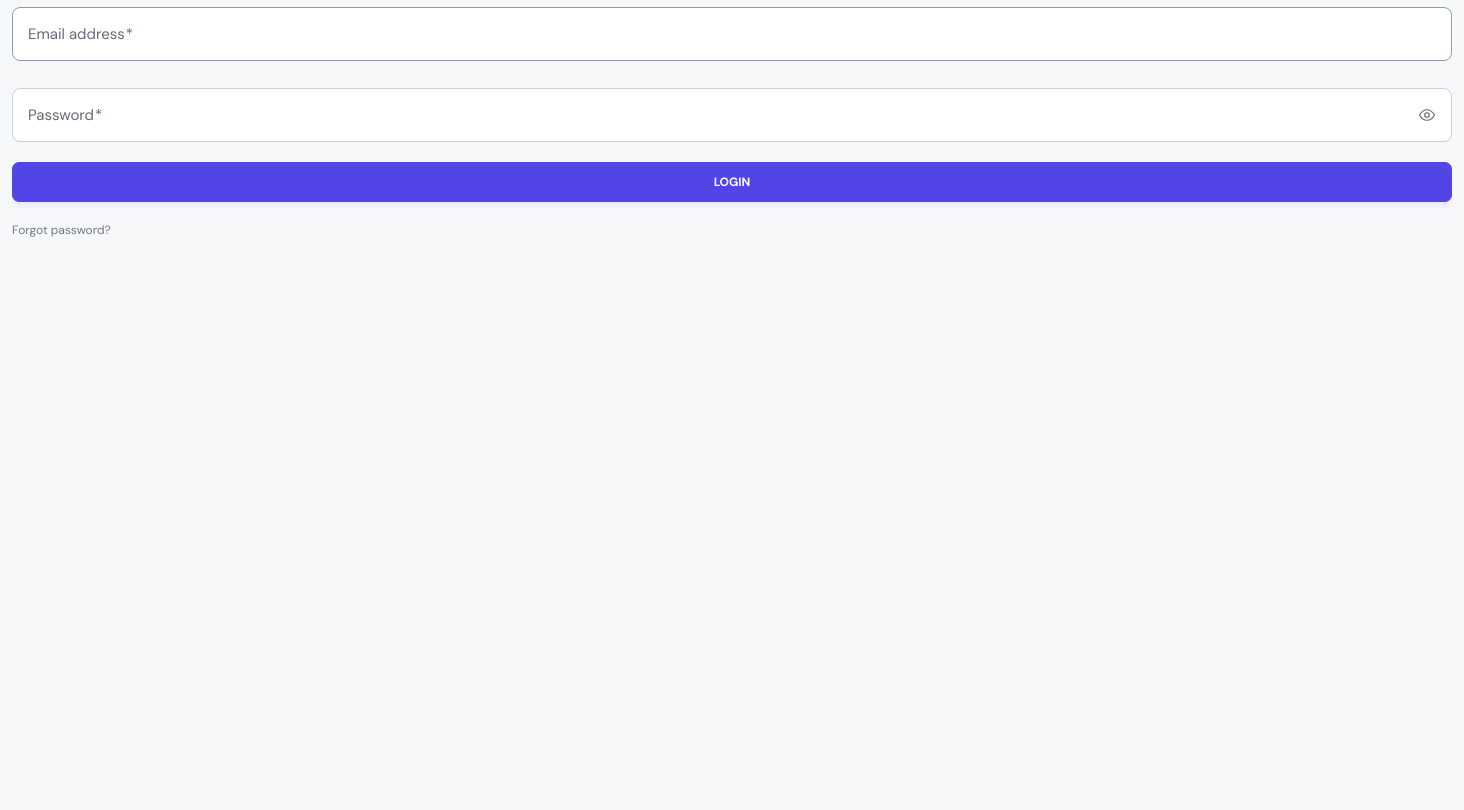
Test: authentication forms block invalid requests › keeps values and maps server field errors without navigation
This screenshot has width=1464, height=810.
Type "alex@example.test" into the field labelled "Email address". click: (732, 34)
box: [12,7,1452,61]
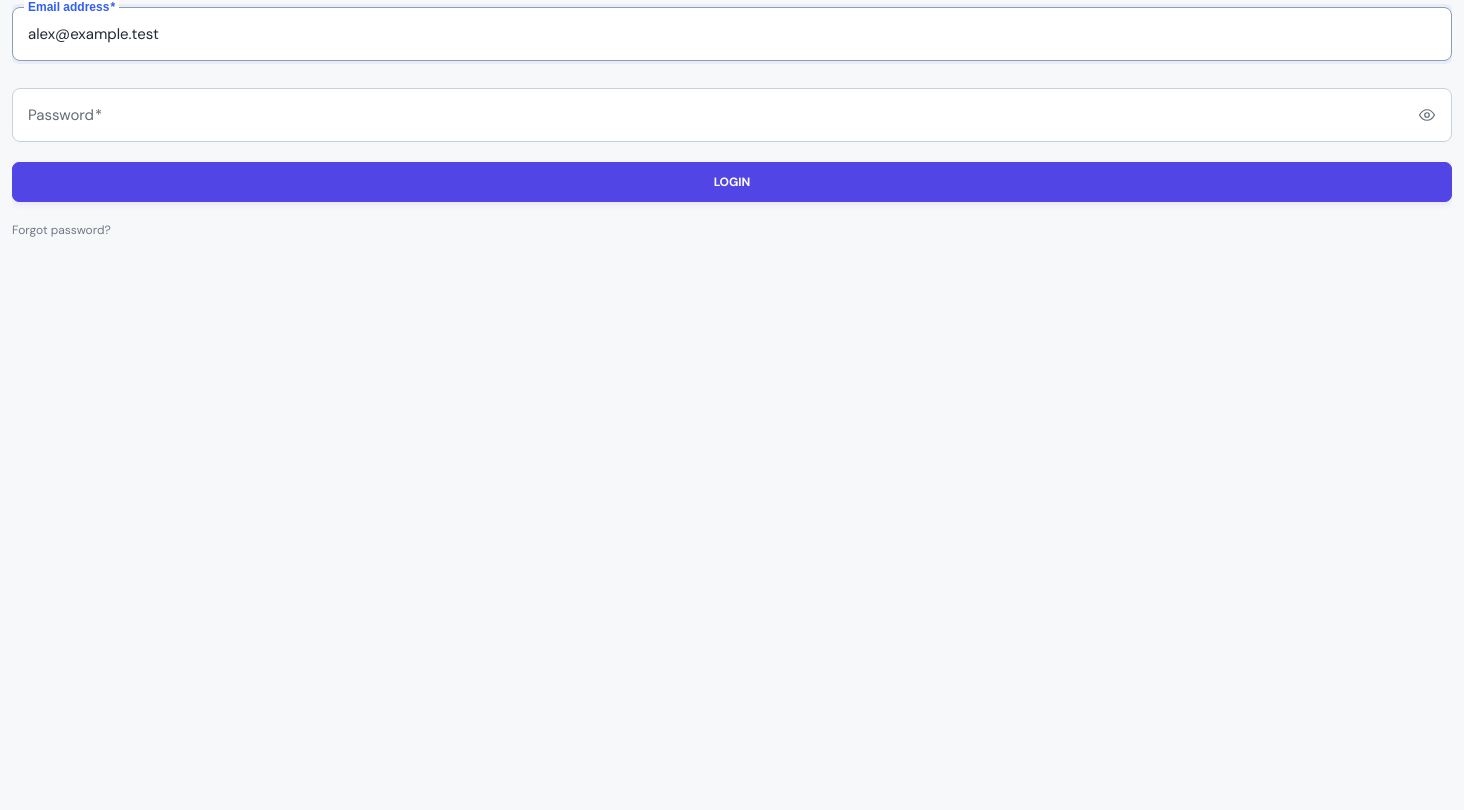
Type "password" into the password field labelled "Password*". click: (732, 115)
box: [12,88,1452,142]
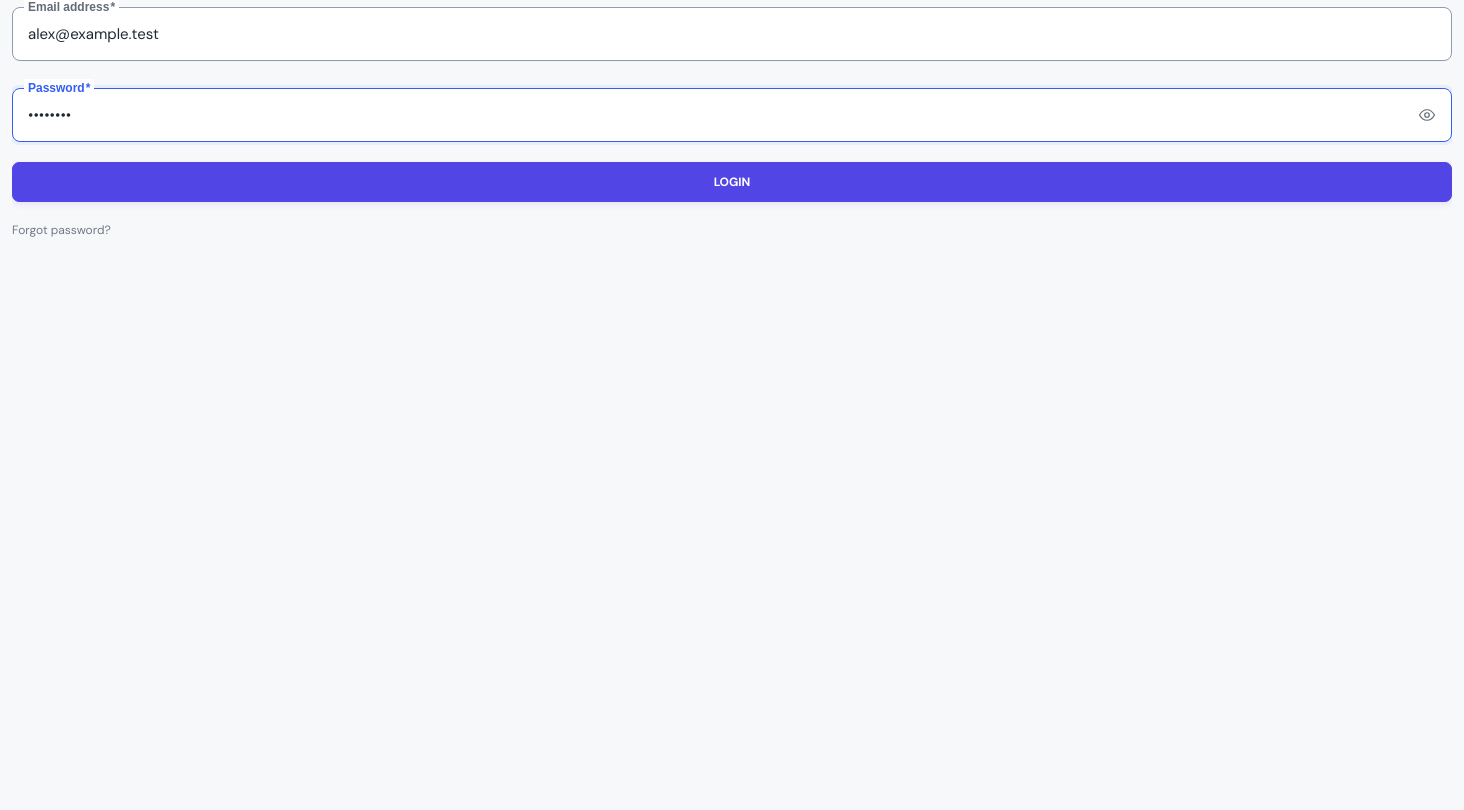
Click the button named "LOGIN". click: (732, 182)
box: [12,162,1452,202]
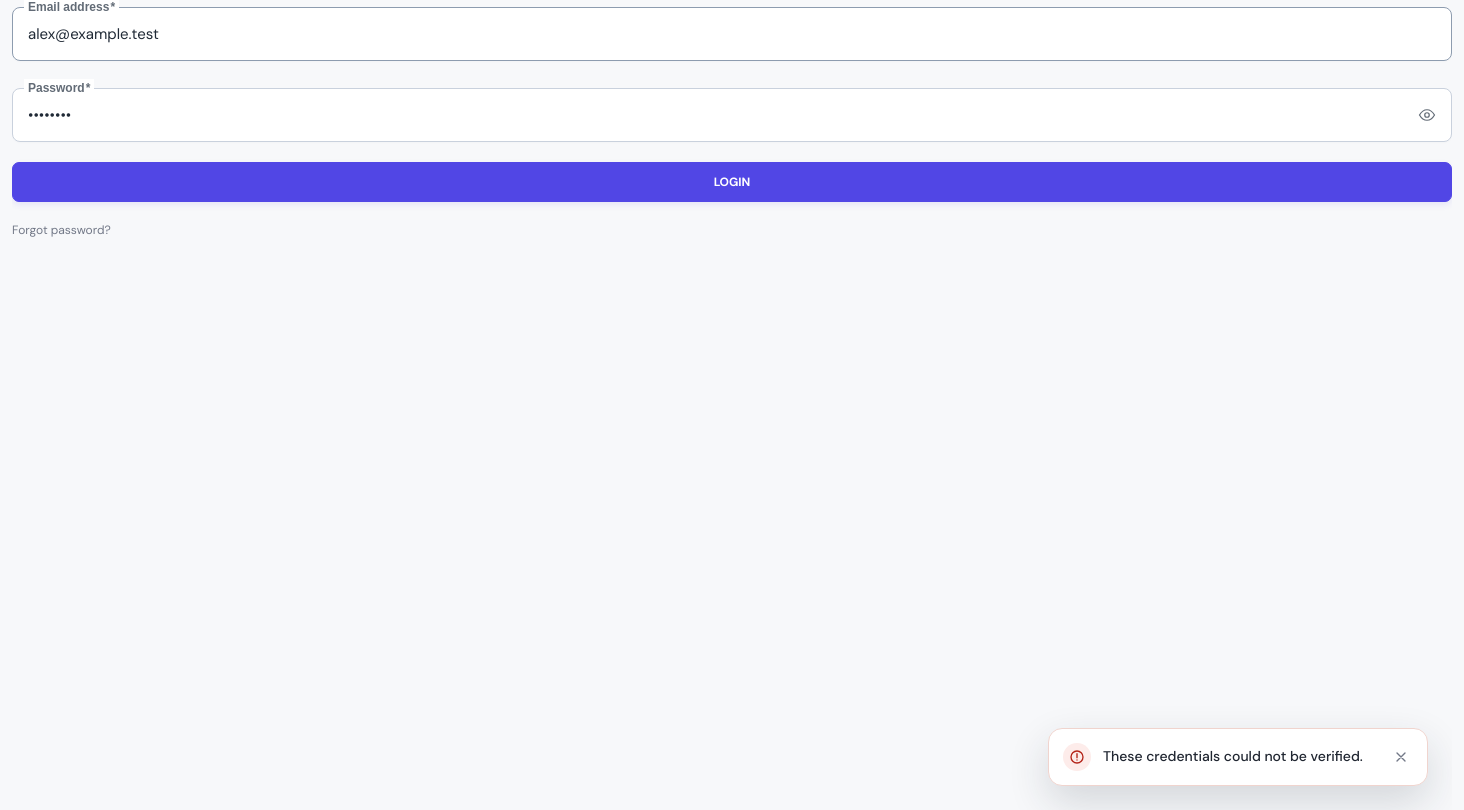
Expected: the form named "LOGIN" does not show "These credentials could not be verified.", [12,0,1452,238]
Result: the message reads "These credentials could not be verified." at [1103,747,1363,765]
Result: the element showing "These credentials could not be verified." is shown at [1048,728,1428,786]
